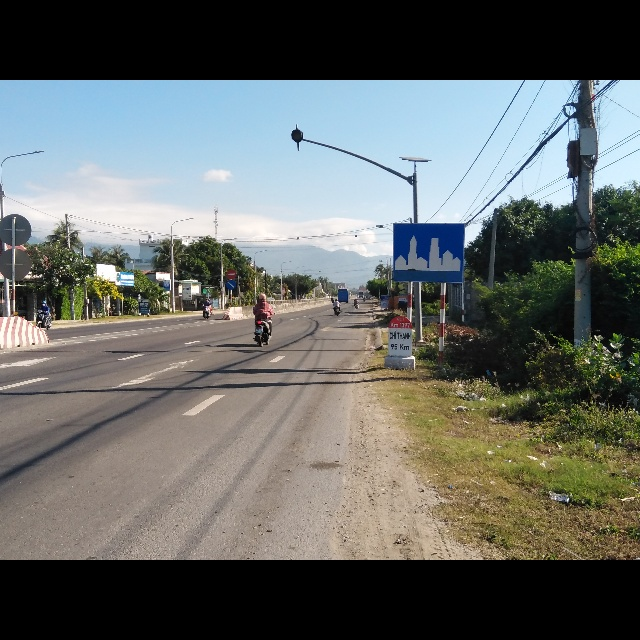Khu đông dân cư: (392, 222, 464, 285)
